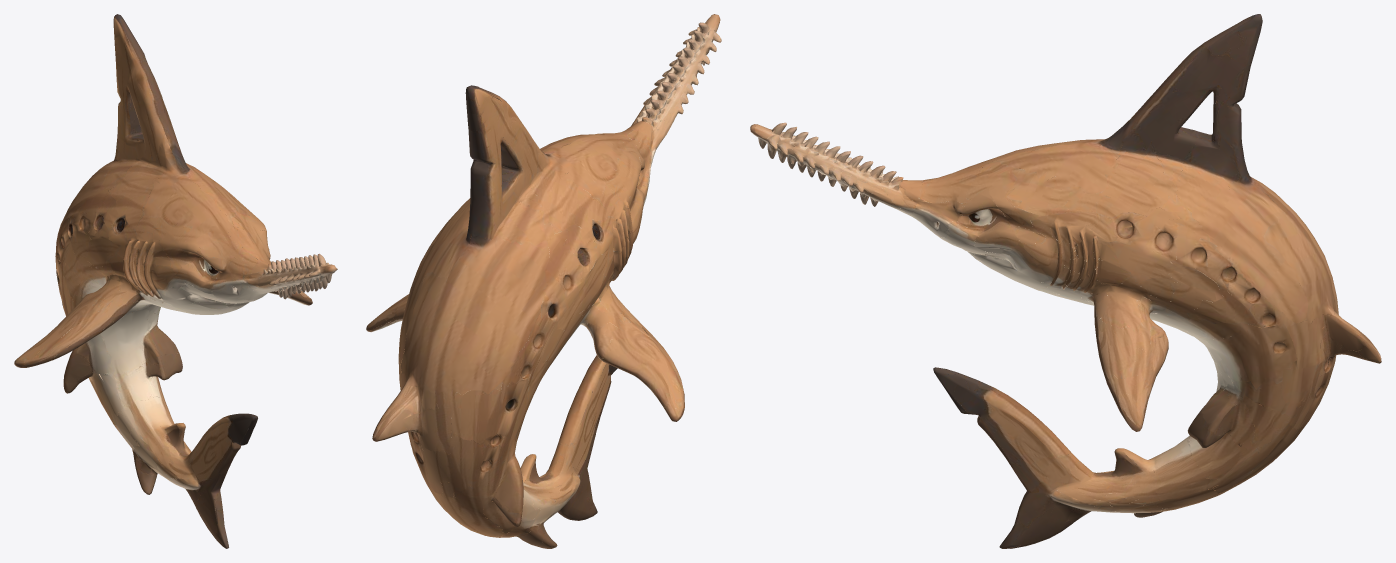
The picture shows the model from 3 angles, left to right: view 1: azimuth 30°, elevation 25°; view 2: azimuth 150°, elevation 25°; view 3: azimuth 270°, elevation 25°; orthographic projection. The views are drawn at different scales.
Parts seen in each view (by area): view 1: Mesh_0; view 2: Mesh_0; view 3: Mesh_0.
Part boxes in pixels (box(x1,y1,x2,y2)): Mesh_0: box(14, 14, 337, 548); Mesh_0: box(366, 14, 721, 548); Mesh_0: box(750, 14, 1381, 548).
Size of the model in its own units: 1.17 by 1.78 by 1.9.
Materials: 1 (1 with a texture image).
